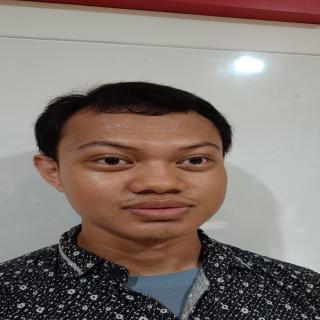Takut: (45, 103, 242, 243)
